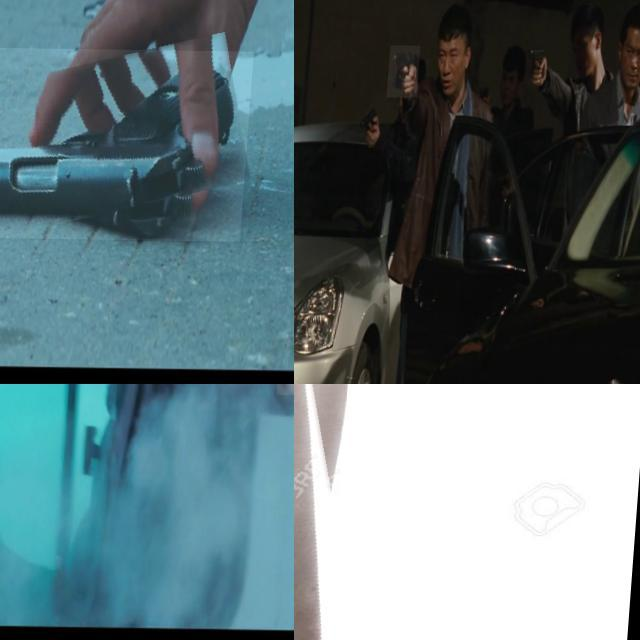-: (294, 384, 424, 640)
gun-knife-thesis - v11 Yolov5 augmented: (0, 46, 257, 239), (390, 45, 423, 97), (529, 41, 551, 83), (362, 104, 386, 142), (294, 92, 302, 127)
